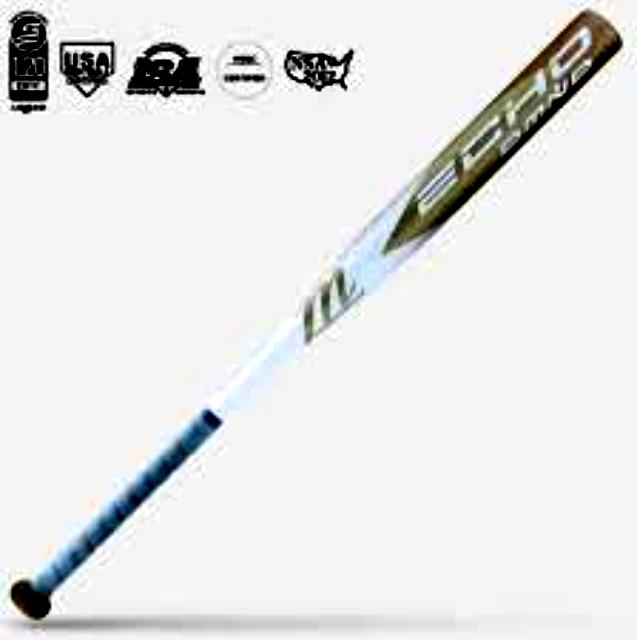baseball bat: (9, 6, 623, 620)
